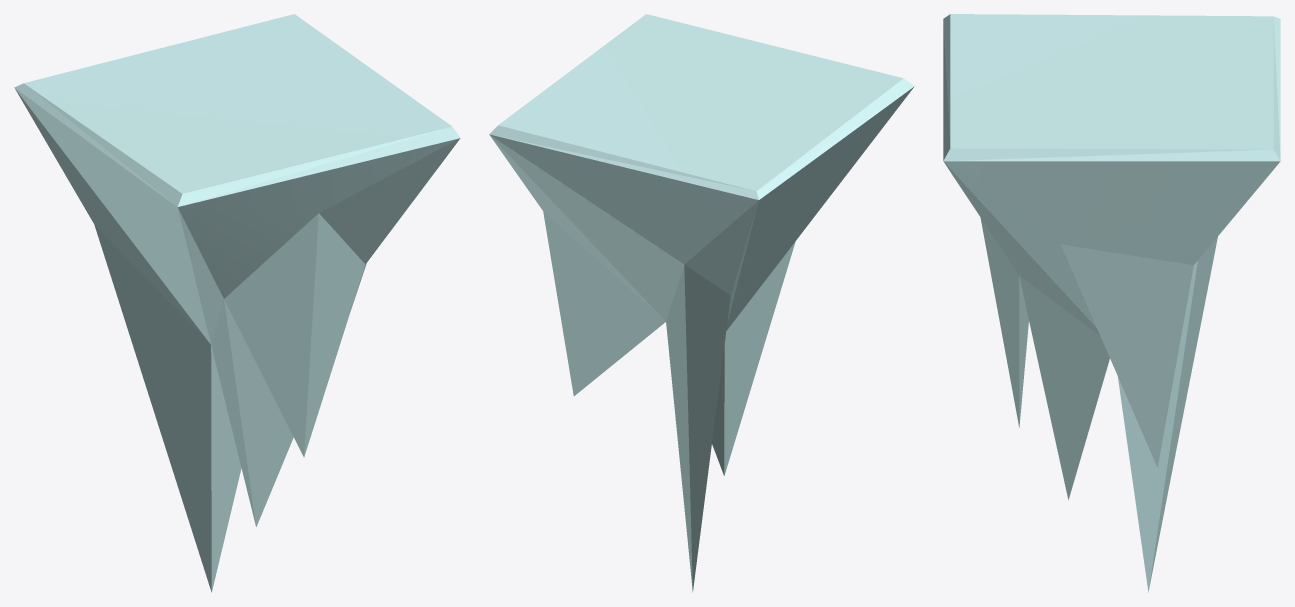
Rendered from land.gltf.
3 views of the same model, side by side, from view 1: azimuth 30°, elevation 25°; view 2: azimuth 150°, elevation 25°; view 3: azimuth 270°, elevation 25° (orthographic). The views are drawn at different scales.
Visible parts, largest first — view 1: mesh1926919455; view 2: mesh1926919455; view 3: mesh1926919455.
Boxes of the visible parts, left/top/right/bottom form: mesh1926919455: left=14, top=14, right=460, bottom=592; mesh1926919455: left=489, top=14, right=914, bottom=592; mesh1926919455: left=943, top=14, right=1280, bottom=592.
Size of the model in its own units: 3.48 by 5.89 by 3.48.
